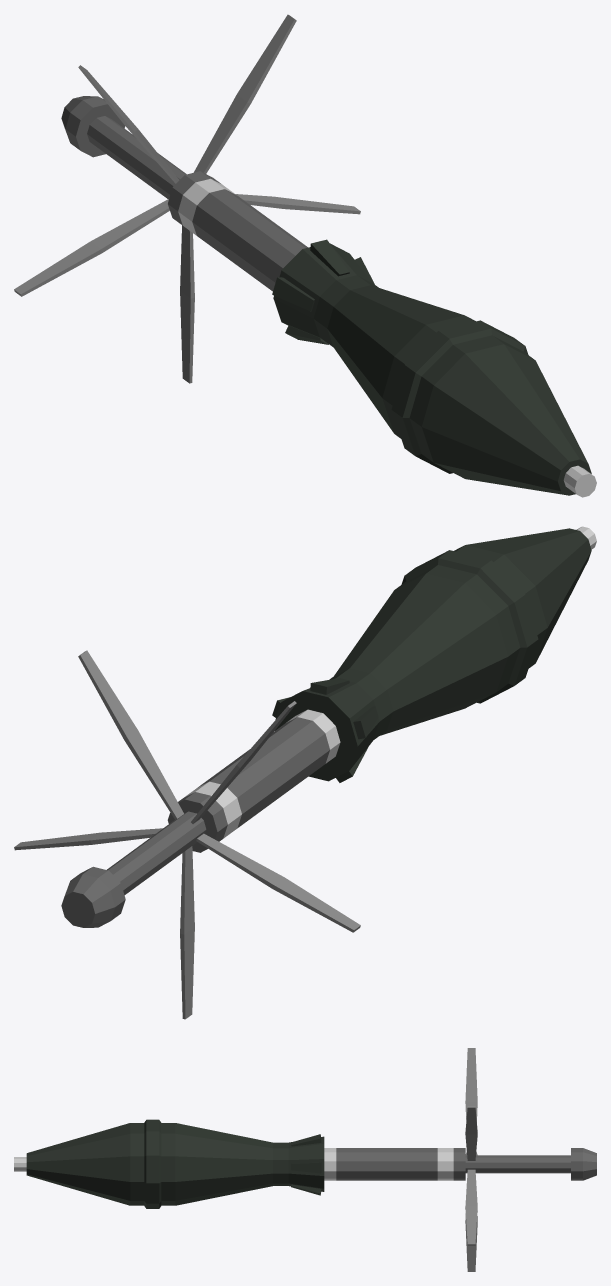
The model's file is AsimovRocketLauncherProjectile.fbx.
3 renders of one model, top to bottom at view 1: azimuth 30°, elevation 25°; view 2: azimuth 150°, elevation 25°; view 3: azimuth 270°, elevation 25°, orthographic. The views are drawn at different scales.
Parts seen in each view (by area): view 1: RocketLauncherProjectile; view 2: RocketLauncherProjectile; view 3: RocketLauncherProjectile.
Boxes of the visible parts, box(x1,y1,x2,y2) form: RocketLauncherProjectile: box(14, 14, 596, 497); RocketLauncherProjectile: box(14, 526, 596, 1019); RocketLauncherProjectile: box(14, 1048, 596, 1271).
Bounding box in the file's own units: 117 × 111 × 303.
